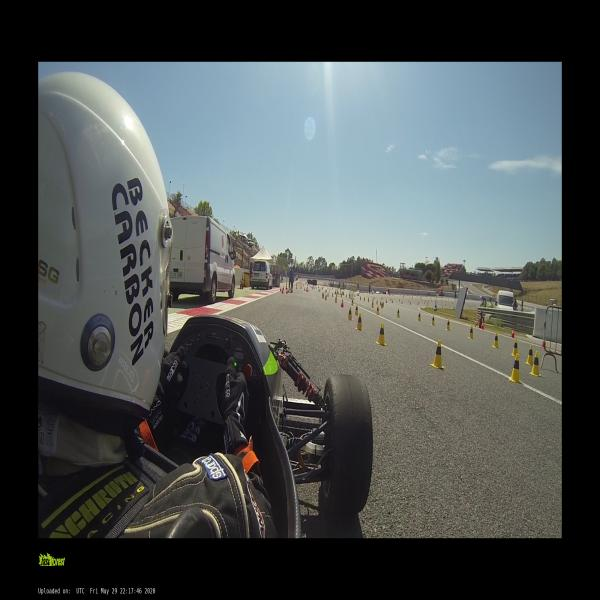orange_cone: (510, 328, 515, 339), (542, 337, 546, 349), (480, 320, 484, 331), (340, 299, 343, 307)
yellow_cone: (510, 352, 521, 384), (432, 340, 444, 369), (528, 352, 541, 378), (377, 323, 386, 345), (526, 344, 534, 366), (511, 338, 519, 358), (491, 332, 500, 349), (356, 313, 363, 331), (467, 325, 474, 340), (445, 318, 451, 332), (347, 307, 353, 320), (431, 315, 435, 326), (354, 305, 358, 316), (417, 312, 421, 322), (396, 308, 400, 318), (375, 306, 379, 315), (350, 300, 354, 305), (334, 296, 337, 302), (371, 302, 373, 308), (382, 302, 384, 308), (375, 300, 378, 304), (367, 297, 369, 303), (379, 300, 381, 305), (363, 297, 365, 301), (371, 299, 373, 303), (360, 296, 361, 300)
